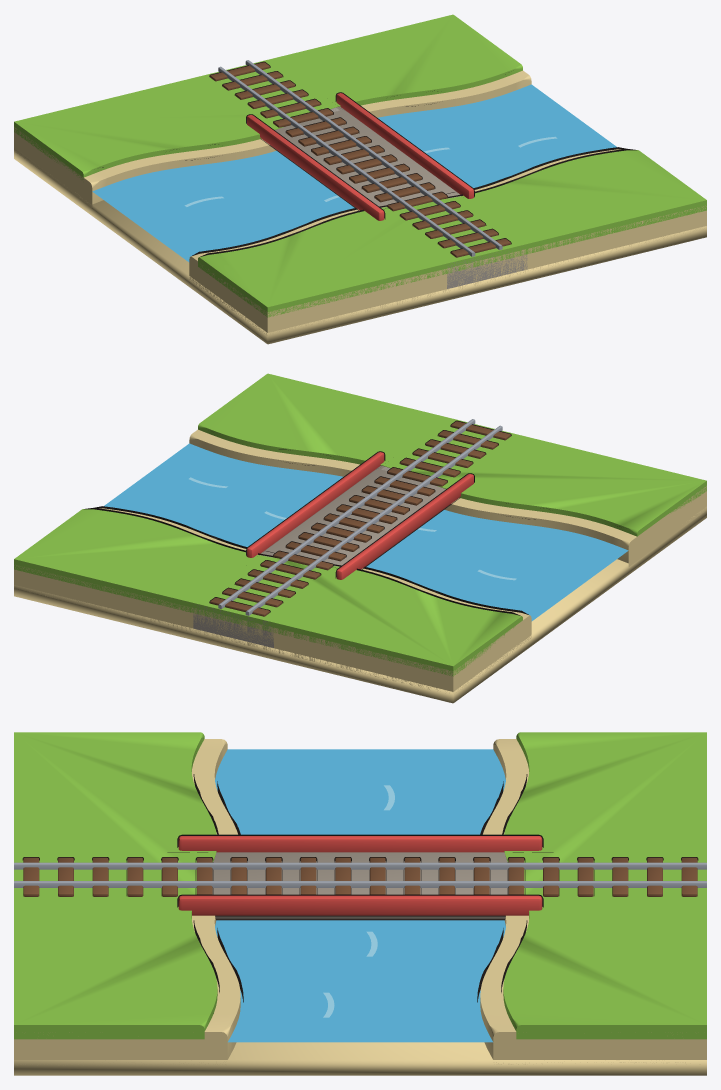
Rendered from River_RailBridge.fbx.
3 views of the same model, one above another, from view 1: azimuth 30°, elevation 25°; view 2: azimuth 150°, elevation 25°; view 3: azimuth 270°, elevation 25° (orthographic). The views are drawn at different scales.
Visible parts, largest first — view 1: Tile_River_RailBridge_Grass, Tile_River_RailBridge_Water, Tile_River_RailBridge_Sand, Tile_River_RailBridge_Sleeper, Tile_River_RailBridge_Awning1, Tile_River_RailBridge_StoneDark, Tile_River_RailBridge_Outline, Tile_River_RailBridge_RailMetal, Tile_River_RailBridge_Gravel; view 2: Tile_River_RailBridge_Grass, Tile_River_RailBridge_Water, Tile_River_RailBridge_Sand, Tile_River_RailBridge_Sleeper, Tile_River_RailBridge_Awning1, Tile_River_RailBridge_StoneDark, Tile_River_RailBridge_Outline, Tile_River_RailBridge_RailMetal, Tile_River_RailBridge_Gravel; view 3: Tile_River_RailBridge_Grass, Tile_River_RailBridge_Water, Tile_River_RailBridge_Sand, Tile_River_RailBridge_Awning1, Tile_River_RailBridge_Sleeper, Tile_River_RailBridge_RailMetal, Tile_River_RailBridge_StoneDark, Tile_River_RailBridge_Outline, Tile_River_RailBridge_WaterEdge.
Part boxes in pixels (x1,y1,x2,y2): Tile_River_RailBridge_Grass: [14, 14, 706, 317]; Tile_River_RailBridge_Water: [92, 84, 616, 262]; Tile_River_RailBridge_Sand: [14, 70, 706, 344]; Tile_River_RailBridge_Sleeper: [210, 62, 510, 257]; Tile_River_RailBridge_Awning1: [247, 93, 473, 220]; Tile_River_RailBridge_StoneDark: [275, 106, 460, 207]; Tile_River_RailBridge_Outline: [102, 61, 636, 256]; Tile_River_RailBridge_RailMetal: [218, 60, 502, 256]; Tile_River_RailBridge_Gravel: [330, 107, 527, 288]; Tile_River_RailBridge_Grass: [14, 373, 706, 676]; Tile_River_RailBridge_Water: [104, 443, 628, 621]; Tile_River_RailBridge_Sand: [14, 429, 706, 703]; Tile_River_RailBridge_Sleeper: [210, 421, 510, 616]; Tile_River_RailBridge_Awning1: [247, 452, 473, 579]; Tile_River_RailBridge_StoneDark: [260, 465, 445, 566]; Tile_River_RailBridge_Outline: [84, 420, 619, 615]; Tile_River_RailBridge_RailMetal: [218, 419, 502, 615]; Tile_River_RailBridge_Gravel: [193, 467, 390, 647]; Tile_River_RailBridge_Grass: [14, 732, 706, 1039]; Tile_River_RailBridge_Water: [215, 749, 505, 1042]; Tile_River_RailBridge_Sand: [14, 739, 706, 1075]; Tile_River_RailBridge_Awning1: [178, 836, 542, 915]; Tile_River_RailBridge_Sleeper: [23, 857, 697, 896]; Tile_River_RailBridge_RailMetal: [14, 862, 706, 887]; Tile_River_RailBridge_StoneDark: [212, 852, 508, 918]; Tile_River_RailBridge_Outline: [22, 774, 698, 1013]; Tile_River_RailBridge_WaterEdge: [323, 785, 394, 1017].
Size of the model in its own units: 24 by 2.44 by 24.
